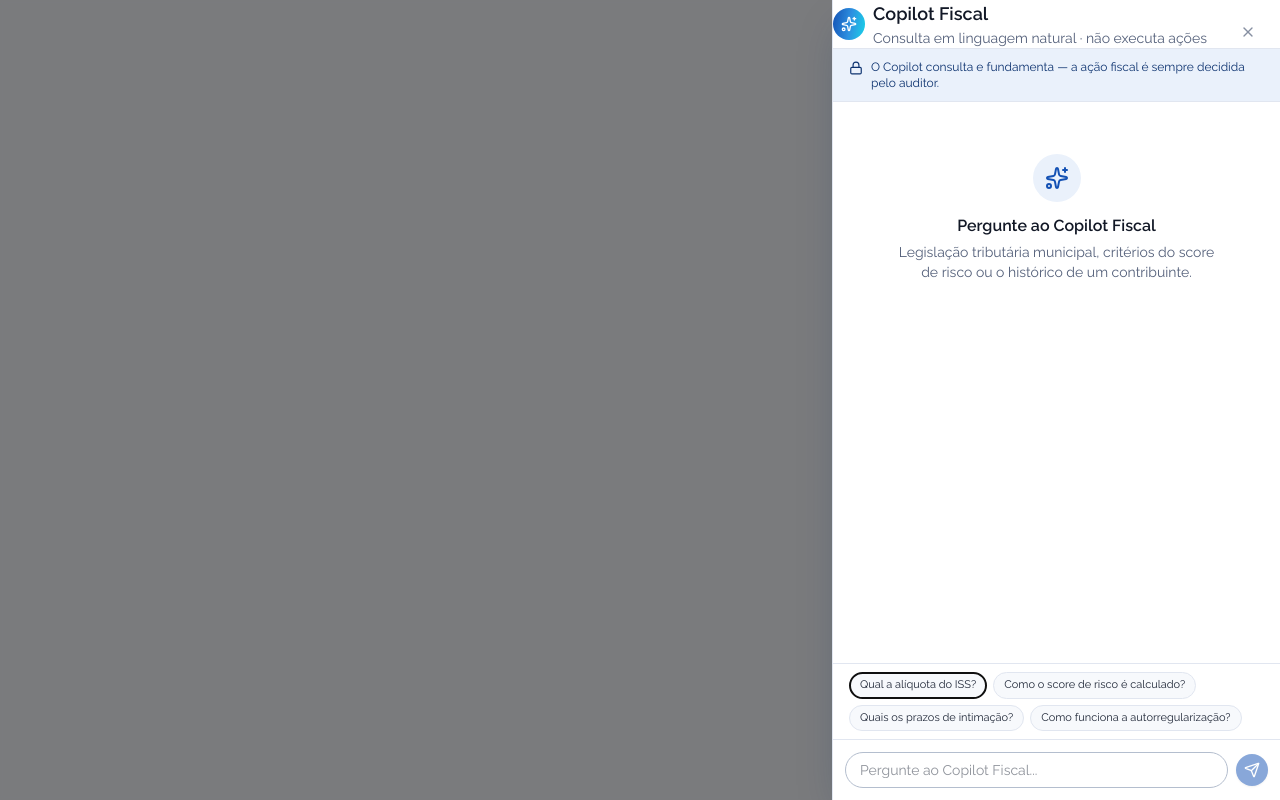
it: CopilotPanel (T18) › envia uma pergunta e mostra a resposta roteirizada com a fonte
The image size is (1280, 800).
Type "Qual a alíquota do ISS?" into the field named "Pergunta ao Copilot Fiscal" at (1036, 770), box [845,752,1228,788]
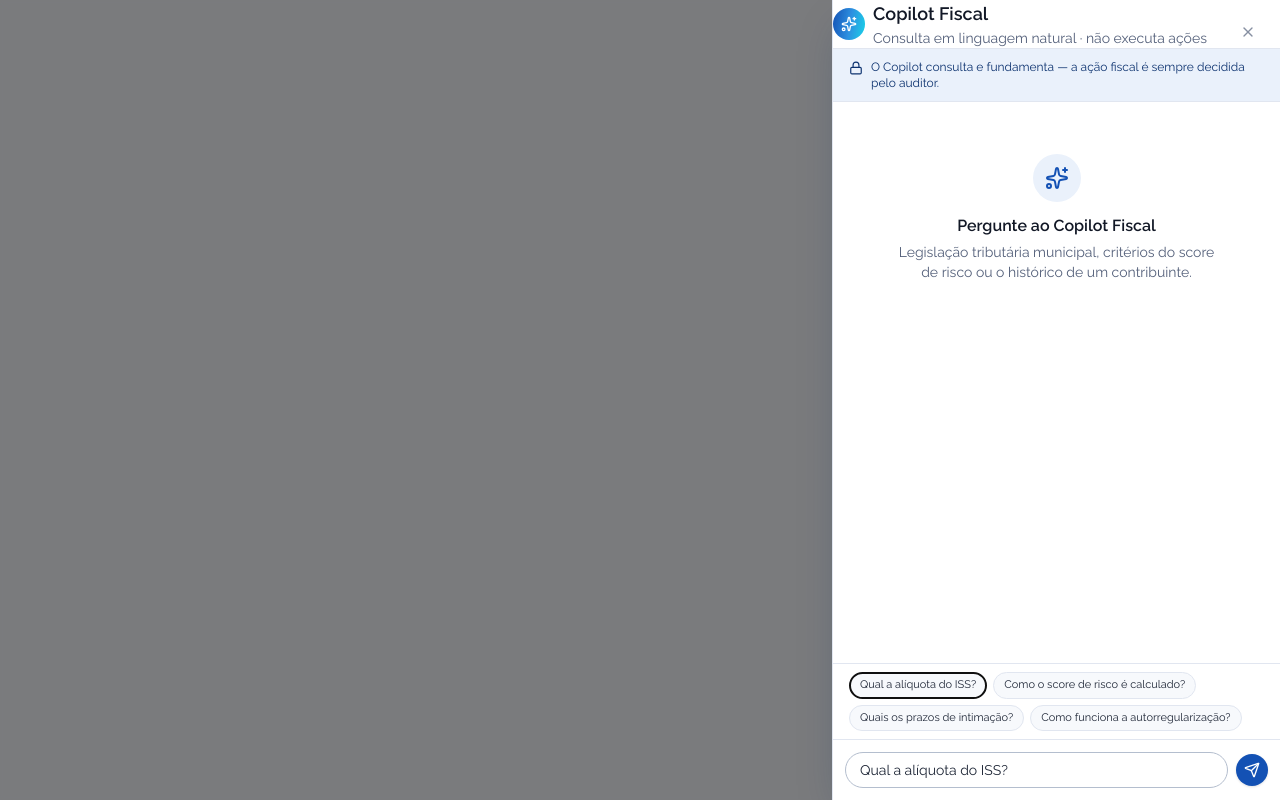
Click the button named "Enviar pergunta" at (1252, 770), box [1236,754,1268,786]
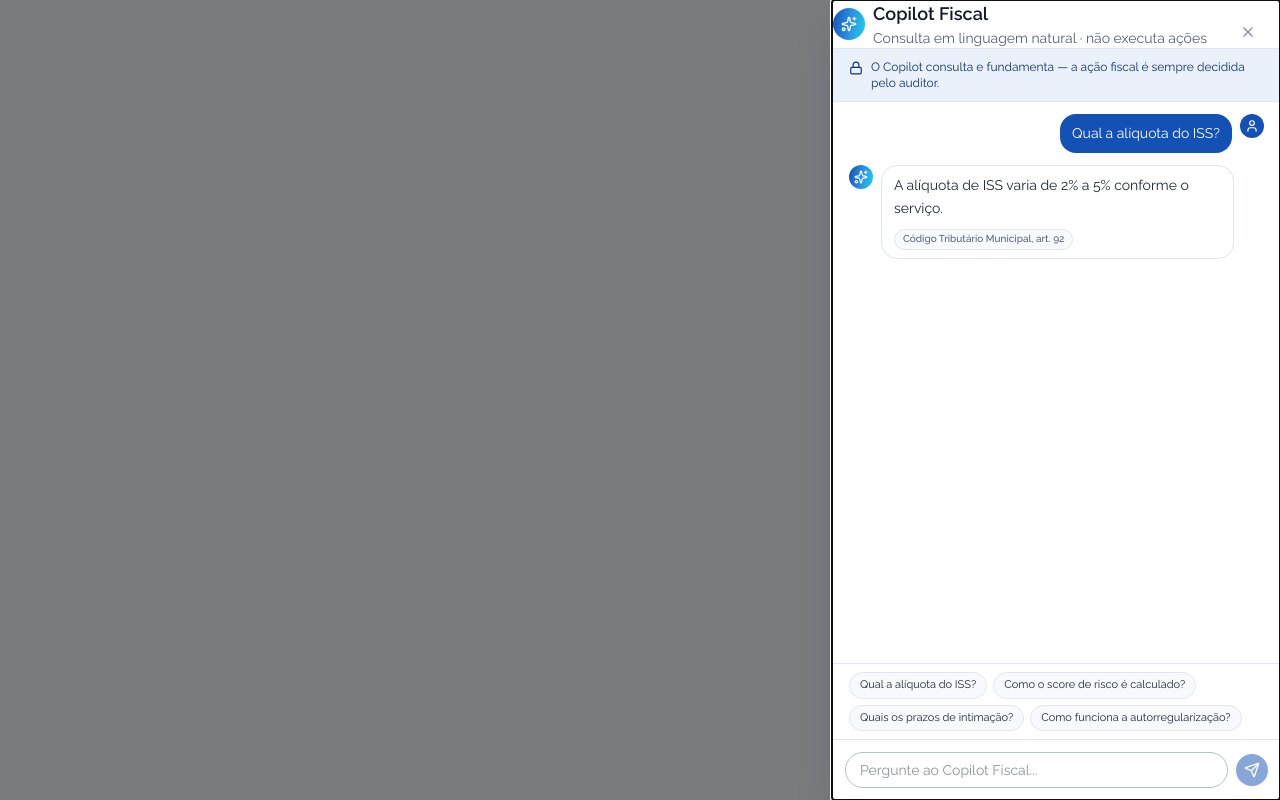
Result: the text "A alíquota de ISS varia de 2% a 5% conforme o serviço." is shown at [894,174,1221,219]
Result: the text "Código Tributário Municipal, art. 92" is shown at [894,229,1073,250]
